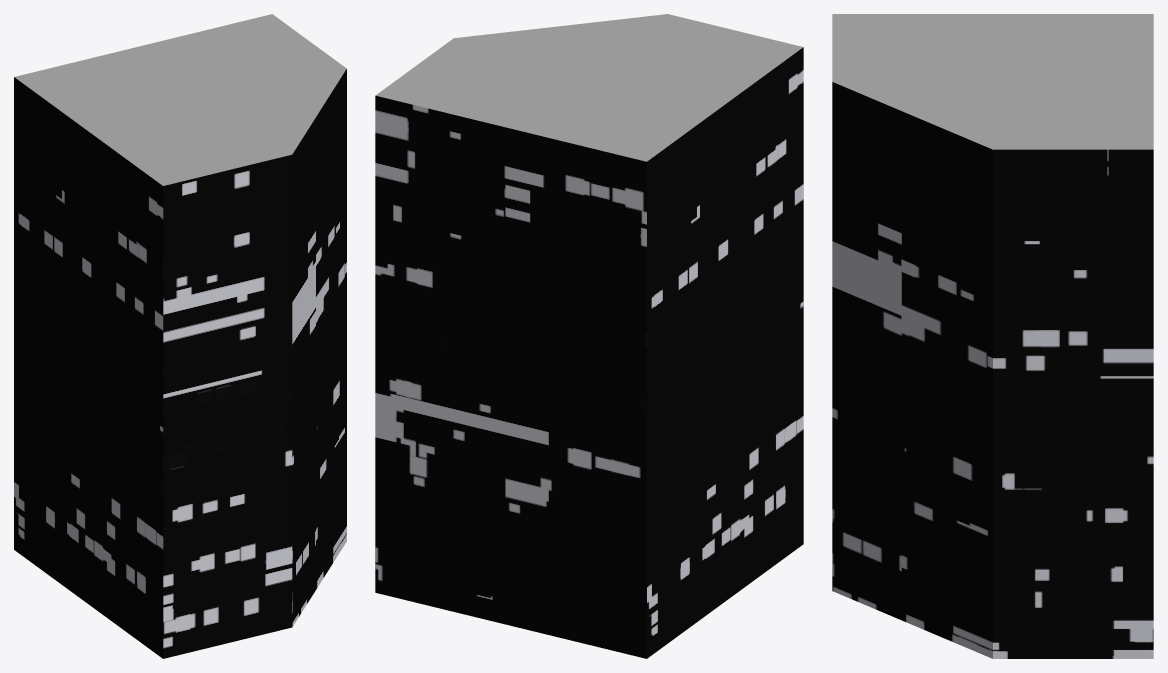
File: Building05.fbx
The picture shows the model from 3 angles, left to right: view 1: azimuth 30°, elevation 25°; view 2: azimuth 150°, elevation 25°; view 3: azimuth 270°, elevation 25°; orthographic projection. The views are drawn at different scales.
Parts seen in each view (by area): view 1: Building05; view 2: Building05; view 3: Building05.
Boxes of the visible parts, box(x1,y1,x2,y2) form: Building05: box(14, 14, 346, 658); Building05: box(375, 14, 803, 658); Building05: box(832, 14, 1153, 658).
Bounding box in the file's own units: 0.343 × 0.6003 × 0.343.
